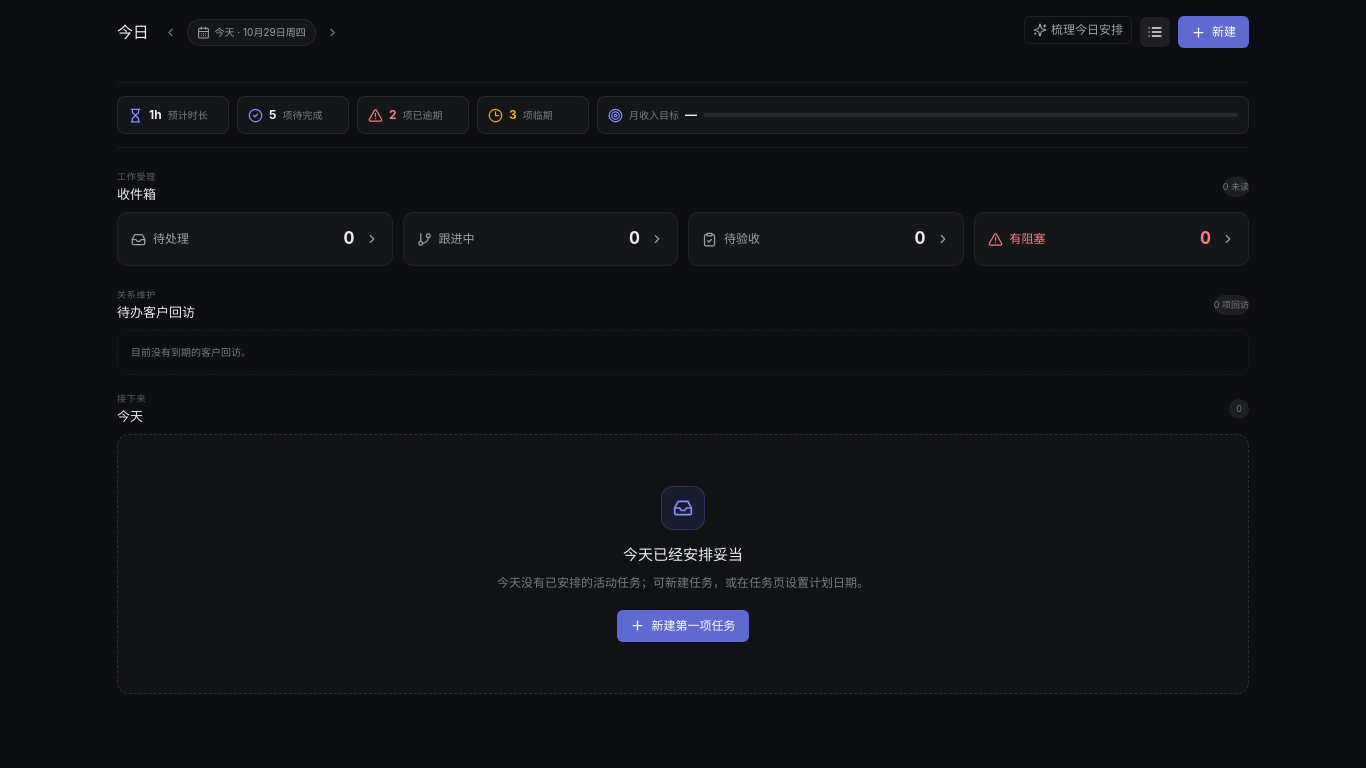
TodayPage Inbox overview › shows a truthful empty risk result
Click the button "3 项临期" at (533, 115), box [477,96,589,134]
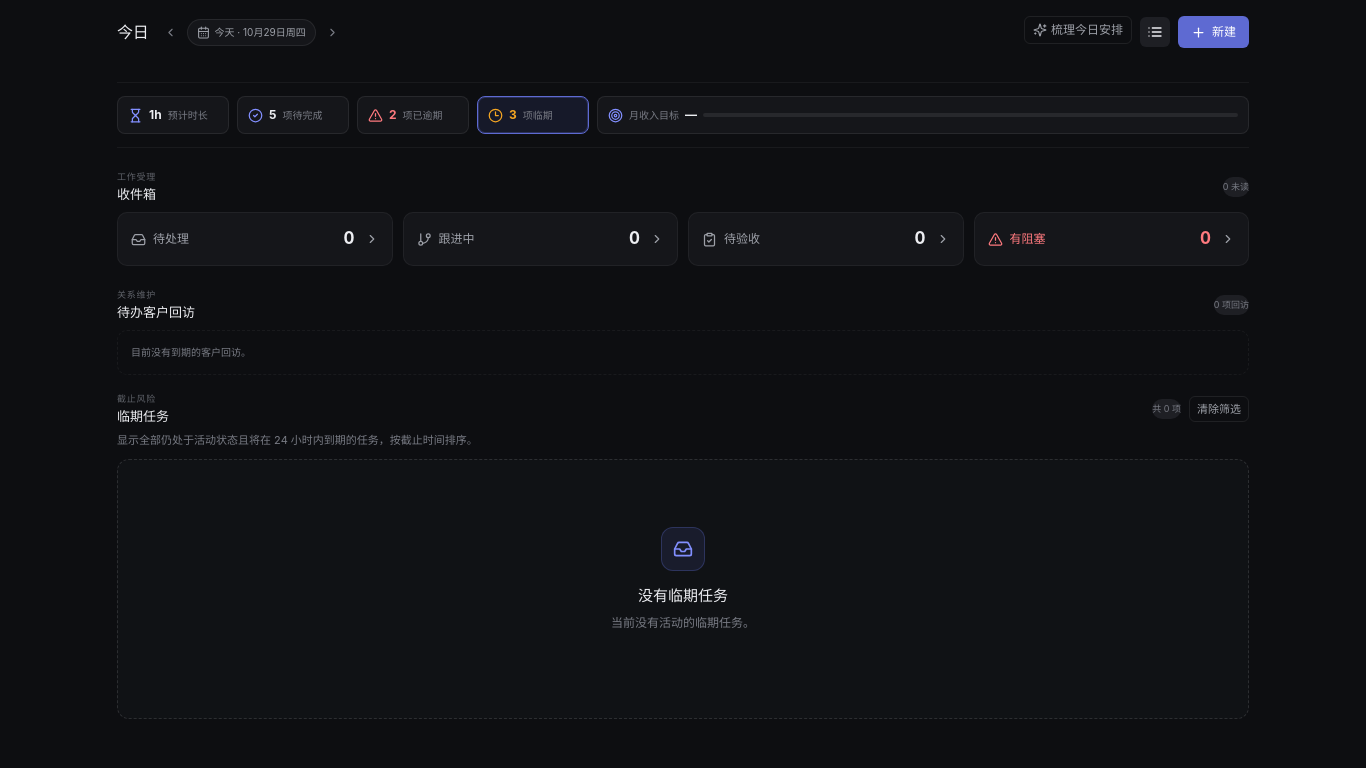
Check: the heading "没有临期任务" is shown, box [638,585,728,607]
Check: the text "当前没有活动的临期任务。" is shown, box [611,613,755,632]
Check: the text "共 0 项" is shown, box [1152,399,1181,419]
